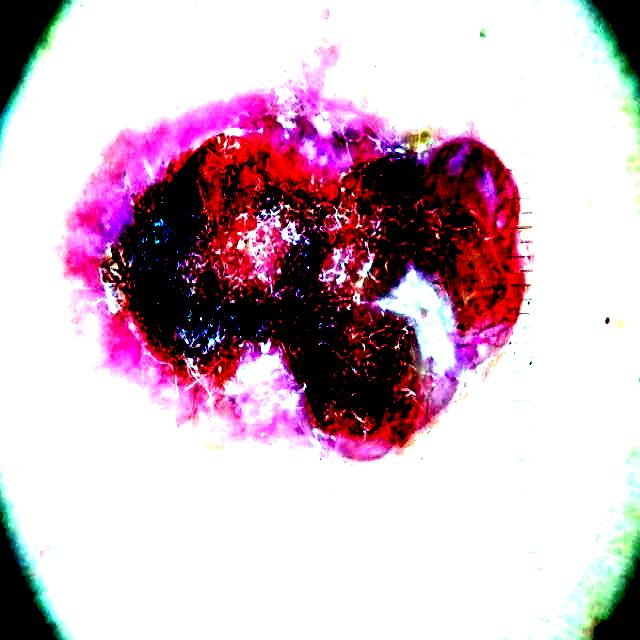BCC: (101, 95, 525, 459)
